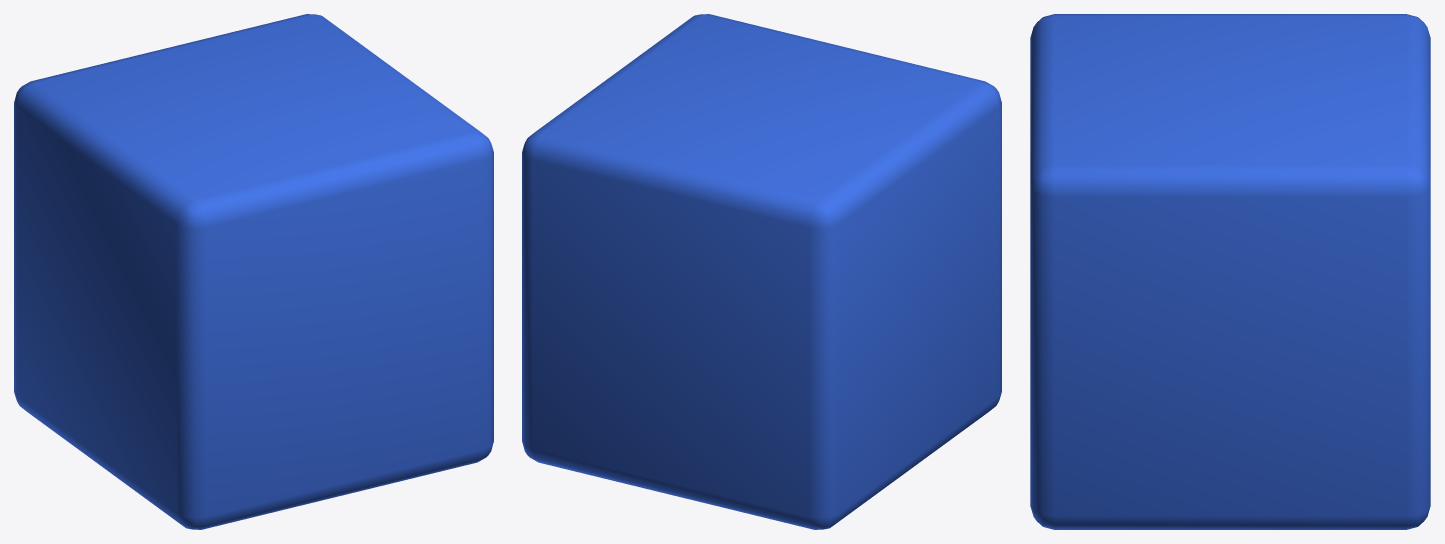
File: bluecube.fbx
3 views of the same model, side by side, from view 1: azimuth 30°, elevation 25°; view 2: azimuth 150°, elevation 25°; view 3: azimuth 270°, elevation 25° (orthographic). The views are drawn at different scales.
Visible parts, largest first — view 1: bluecube; view 2: bluecube; view 3: bluecube.
Part boxes in pixels (<box>): bluecube: <box>14,14,493,529</box>; bluecube: <box>522,14,1001,529</box>; bluecube: <box>1030,14,1430,529</box>.
Size of the model in its own units: 200 by 200 by 200.
